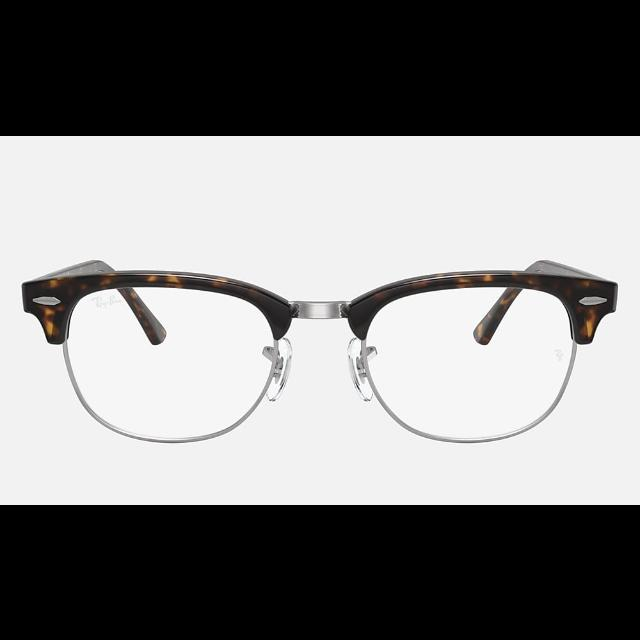glasses: (18, 256, 620, 442)
